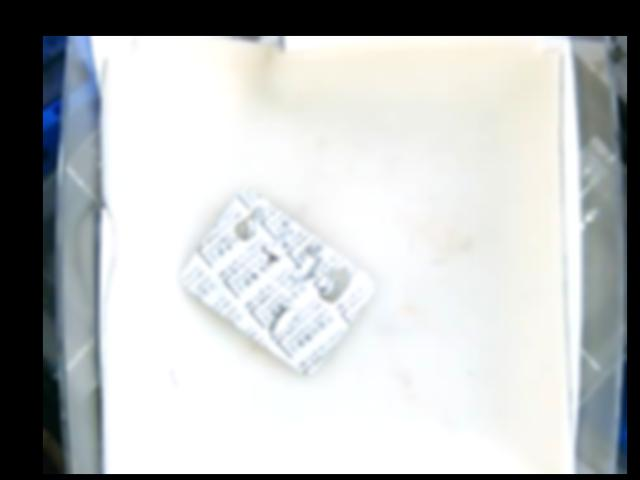Medicine: (182, 191, 375, 373)
